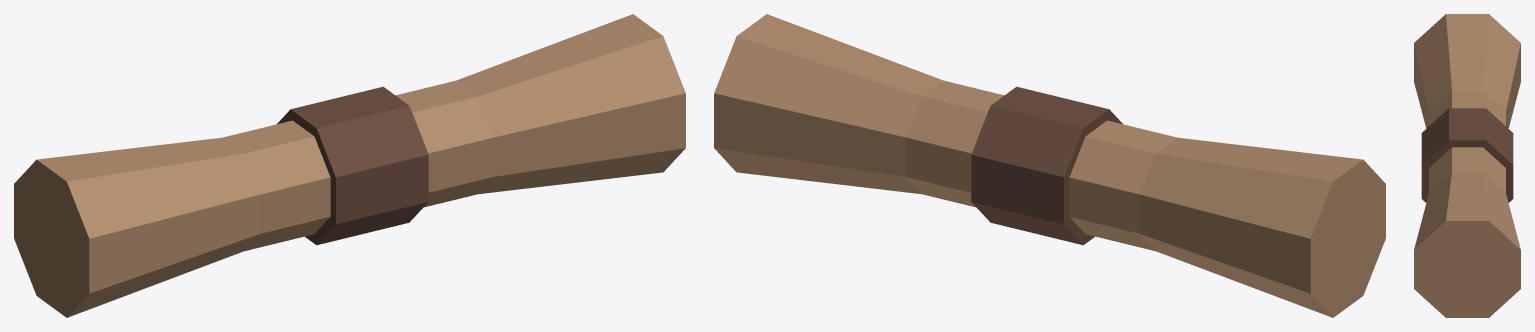
Rendered from Recipe.fbx.
The picture shows the model from 3 angles, left to right: view 1: azimuth 30°, elevation 25°; view 2: azimuth 150°, elevation 25°; view 3: azimuth 270°, elevation 25°; orthographic projection. The views are drawn at different scales.
Parts seen in each view (by area): view 1: Cube.008; view 2: Cube.008; view 3: Cube.008.
Boxes of the visible parts, x1,y1,x2,y2 form: Cube.008: (14,14,685,317); Cube.008: (714,14,1385,317); Cube.008: (1414,14,1520,317).
Bounding box in the file's own units: 61.31 × 13.38 × 13.38.
